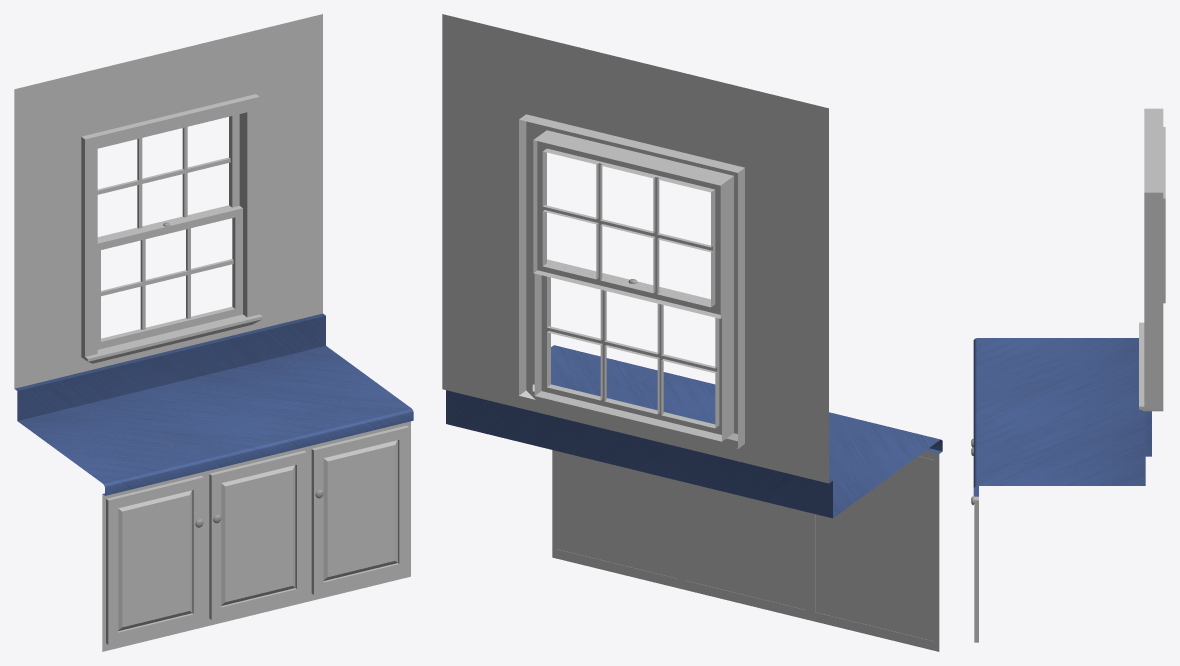
Rendered from kitchen_set-final-1.fbx.
The picture shows the model from 3 angles, left to right: view 1: azimuth 30°, elevation 25°; view 2: azimuth 150°, elevation 25°; view 3: azimuth 270°, elevation 25°; orthographic projection. The views are drawn at different scales.
Parts seen in each view (by area): view 1: Wall, Cabinets, Counter, Window, CabinetBacking; view 2: Wall, CabinetBacking, Window, Counter; view 3: Counter, Window, Cabinets.
Boxes of the visible parts, <box> form: Wall: <box>14,14,322,388</box>; Cabinets: <box>106,425,408,644</box>; Counter: <box>14,313,413,495</box>; Window: <box>81,94,262,363</box>; CabinetBacking: <box>102,421,410,651</box>; Wall: <box>442,14,828,483</box>; CabinetBacking: <box>552,450,939,651</box>; Window: <box>519,114,744,453</box>; Counter: <box>446,345,942,518</box>; Counter: <box>973,338,1151,496</box>; Window: <box>1139,108,1165,411</box>; Cabinets: <box>974,496,978,642</box>.
Bounding box in the file's own units: 57.46 × 88.61 × 31.82.
